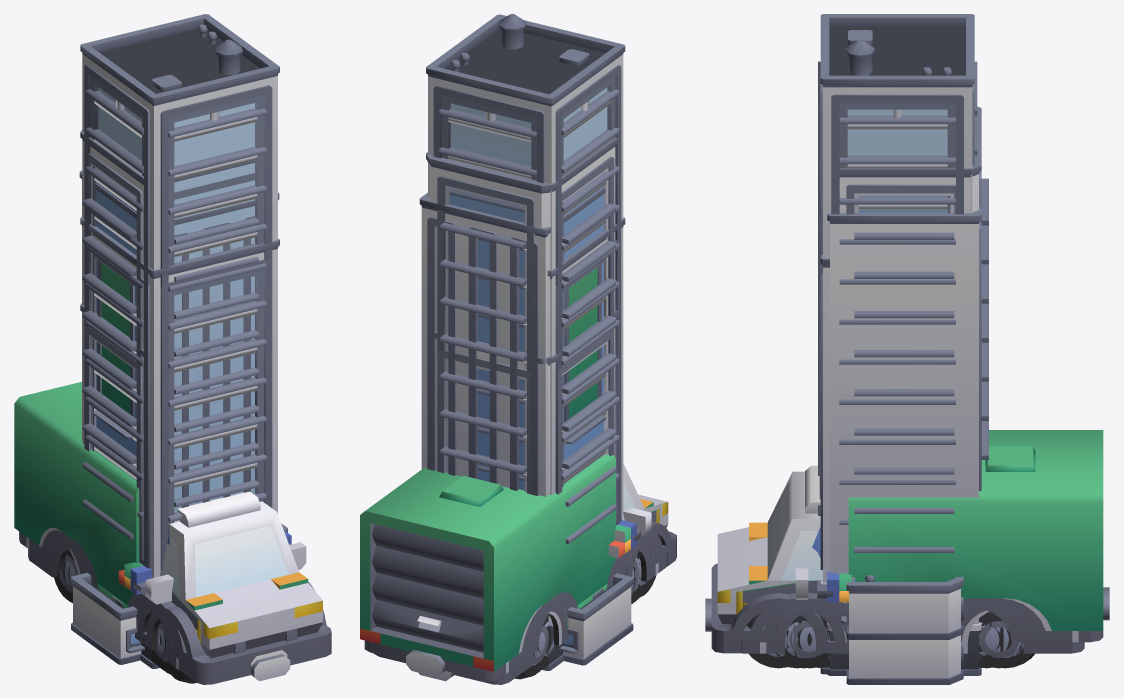
Rendered from props.glb.
3 renders of one model, left to right at view 1: azimuth 30°, elevation 25°; view 2: azimuth 150°, elevation 25°; view 3: azimuth 270°, elevation 25°, orthographic. The views are drawn at different scales.
Parts seen in each view (by area): view 1: building-skyscraper-d, body.006, building-skyscraper-c, building-skyscraper-b, building-skyscraper-e, building-skyscraper-a, building-e, body.005, body.004, body.008, body.002, body.001 (+2 smaller); view 2: building-skyscraper-d, body.006, building-skyscraper-b, building-skyscraper-e, door, building-skyscraper-a, building-skyscraper-c, building-e, body.005, body, body.004, body.008; view 3: body.006, building-skyscraper-e, building-skyscraper-d, building-skyscraper-b, building-e, building-skyscraper-c, body.005, building-skyscraper-a, body.002, body, body.004, body.008 (+3 smaller).
Boxes of the visible parts, x1,y1,x2,y2 form: building-skyscraper-d: [80, 14, 279, 668]; body.006: [14, 381, 331, 684]; building-skyscraper-c: [80, 217, 279, 668]; building-skyscraper-b: [80, 129, 258, 659]; building-skyscraper-e: [79, 170, 279, 507]; building-skyscraper-a: [80, 302, 258, 665]; building-e: [71, 523, 287, 664]; body.005: [28, 530, 200, 676]; body.004: [51, 530, 308, 658]; body.008: [46, 536, 175, 663]; body.002: [26, 528, 197, 669]; body.001: [124, 572, 307, 606]; building-skyscraper-d: [426, 14, 625, 663]; body.006: [360, 454, 676, 680]; building-skyscraper-b: [426, 137, 617, 665]; building-skyscraper-e: [419, 187, 605, 670]; door: [372, 524, 483, 652]; building-skyscraper-a: [434, 310, 618, 670]; building-skyscraper-c: [477, 217, 625, 519]; building-e: [559, 573, 633, 665]; body.005: [374, 508, 666, 684]; body: [532, 540, 654, 653]; body.004: [532, 502, 658, 654]; body.008: [526, 543, 652, 669]; body.006: [705, 430, 1109, 653]; building-skyscraper-e: [827, 206, 981, 675]; building-skyscraper-d: [818, 14, 977, 674]; building-skyscraper-b: [819, 106, 988, 667]; building-e: [841, 575, 963, 684]; building-skyscraper-c: [818, 255, 955, 674]; body.005: [736, 580, 1084, 653]; building-skyscraper-a: [819, 347, 988, 548]; body.002: [742, 580, 1078, 653]; body: [767, 598, 1036, 653]; body.004: [749, 573, 1025, 642]; body.008: [772, 593, 1029, 644].
Size of the model in its own units: 1.64 by 5.47 by 3.25.
Materials: 2 (2 with a texture image).
